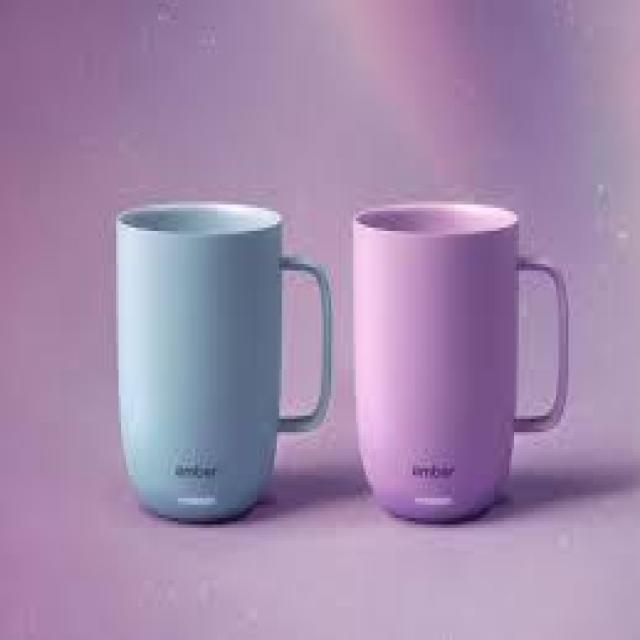taza: (116, 202, 332, 526), (352, 200, 568, 522)
